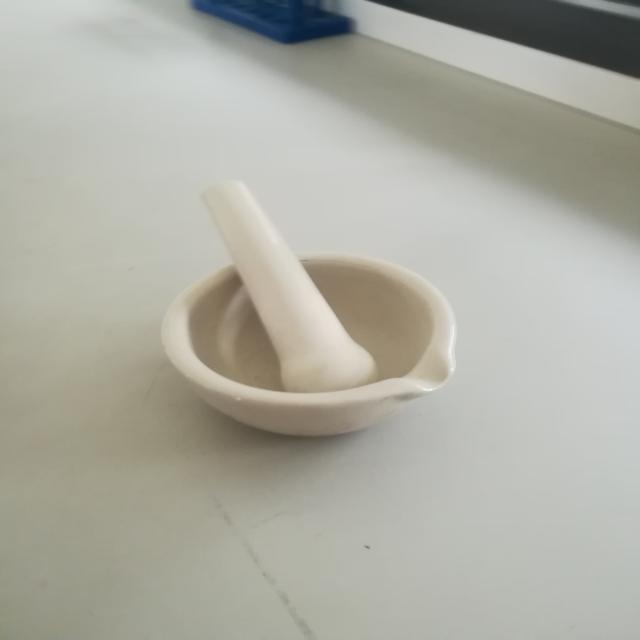Porcelain_Mortar Pestle: (101, 121, 494, 483)
